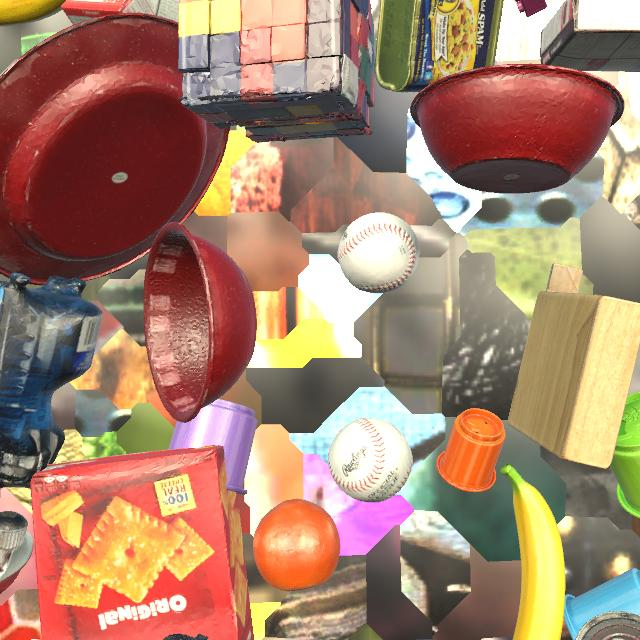ycb_003_cracker_box: (30, 445, 255, 640)
ycb_005_tomato_soup_can: (575, 611, 640, 640)
ycb_008_pudding_box: (540, 0, 640, 72), (146, 0, 179, 23)
ycb_009_gelatin_box: (61, 0, 155, 25)
ycb_010_potted_meat_can: (374, 0, 504, 92)
ycb_011_banana: (500, 464, 565, 640), (0, 0, 66, 27)
ycb_017_orange: (253, 499, 340, 591)
